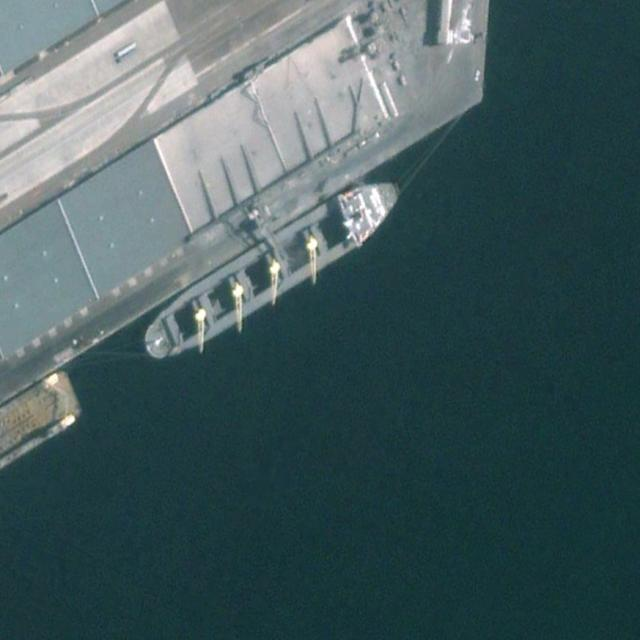Cargo: (135, 159, 413, 374)
